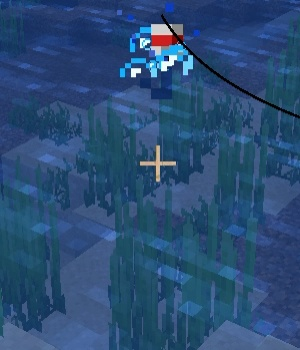up: (131, 19, 189, 110)
